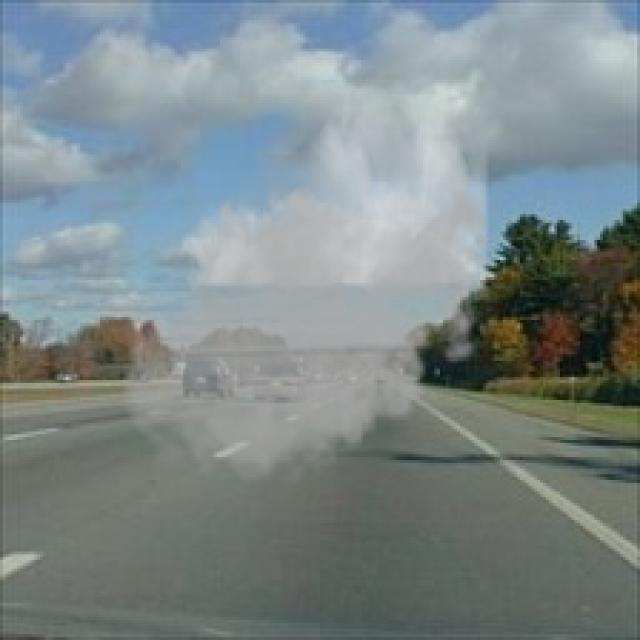Smoke: (114, 94, 503, 497)
